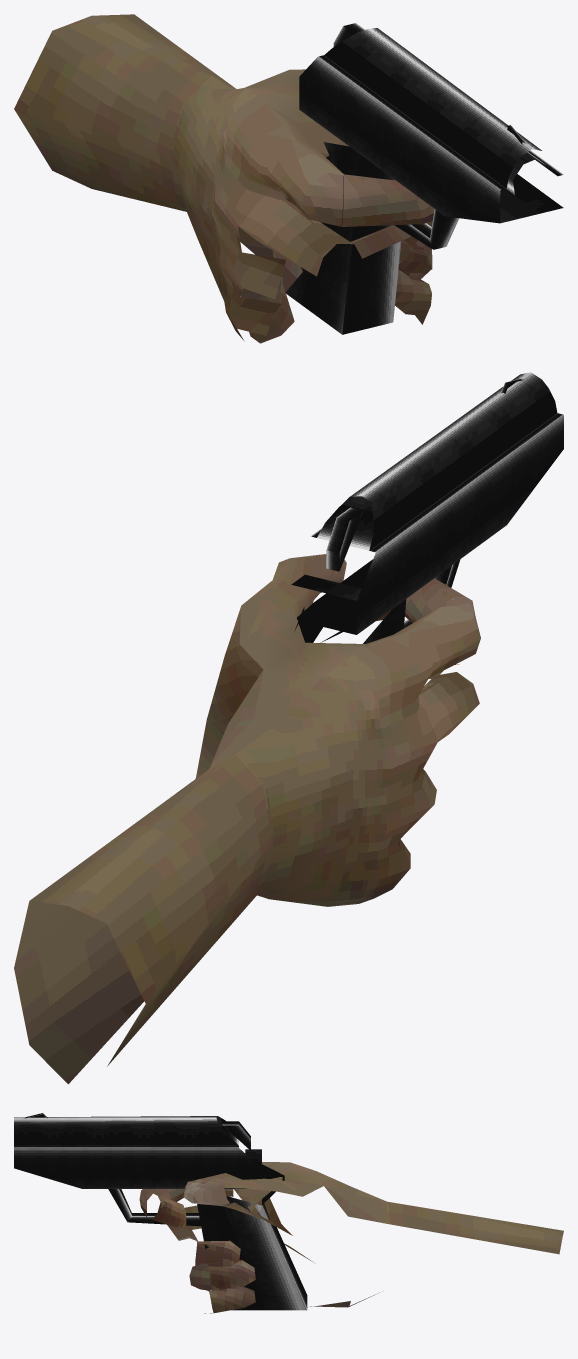
File: gun.glb
The picture shows the model from 3 angles, top to bottom: view 1: azimuth 30°, elevation 25°; view 2: azimuth 150°, elevation 25°; view 3: azimuth 270°, elevation 25°; orthographic projection. The views are drawn at different scales.
Parts seen in each view (by area): view 1: m4, m8ClampSClampT, m11ClampSClampT, m5ClampSClampT, m6ClampSClampT, m10ClampSClampT, m9ClampSClampT; view 2: m8ClampSClampT, m4, m11ClampSClampT, m6ClampSClampT, m9ClampSClampT, m10ClampSClampT, m5ClampSClampT, m7; view 3: m4, m11ClampSClampT, m6ClampSClampT, m9ClampSClampT, m5ClampSClampT, m8ClampSClampT, m10ClampSClampT, m7.
Part boxes in pixels (box(x1,y1,x2,y2)): m4: box(278, 23, 563, 334); m8ClampSClampT: box(173, 76, 351, 341); m11ClampSClampT: box(14, 14, 236, 211); m5ClampSClampT: box(301, 172, 434, 269); m6ClampSClampT: box(395, 221, 432, 324); m10ClampSClampT: box(238, 186, 302, 343); m9ClampSClampT: box(214, 69, 320, 125); m8ClampSClampT: box(237, 605, 480, 906); m4: box(291, 372, 563, 643); m11ClampSClampT: box(29, 754, 274, 1066); m6ClampSClampT: box(14, 609, 391, 1084); m9ClampSClampT: box(209, 558, 365, 768); m10ClampSClampT: box(195, 606, 263, 778); m5ClampSClampT: box(291, 554, 480, 678); m7: box(294, 382, 515, 642); m4: box(14, 1113, 307, 1310); m11ClampSClampT: box(385, 1201, 563, 1254); m6ClampSClampT: box(148, 1195, 255, 1313); m9ClampSClampT: box(224, 1162, 387, 1223); m5ClampSClampT: box(139, 1173, 229, 1290); m8ClampSClampT: box(184, 1162, 386, 1229); m10ClampSClampT: box(223, 1198, 380, 1307); m7: box(30, 1114, 284, 1204).
Bounding box in the file's own units: 84 × 168 × 364.
8 materials, 8 textured.
